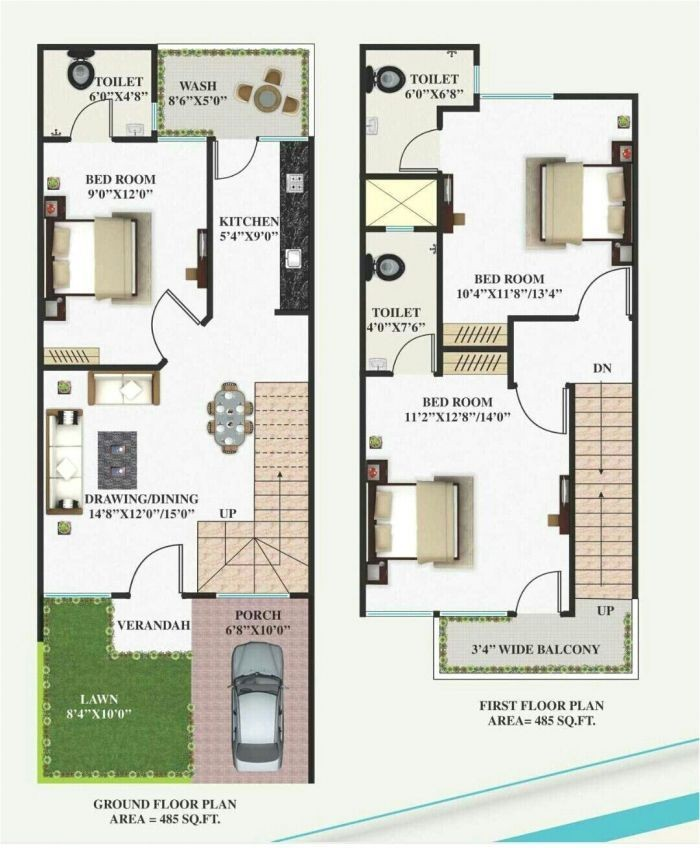door: (140, 290, 206, 362), (118, 545, 186, 602), (518, 393, 572, 446), (510, 573, 567, 616), (581, 265, 631, 313), (69, 88, 116, 137), (401, 129, 443, 172), (218, 143, 252, 169)
room: (51, 370, 263, 588), (372, 382, 557, 593), (51, 143, 207, 365), (474, 110, 621, 313), (219, 146, 310, 361), (370, 54, 475, 168), (46, 49, 156, 139), (370, 231, 437, 377)
wall: (35, 139, 51, 596), (629, 100, 642, 598), (308, 141, 317, 782), (360, 177, 368, 619), (203, 139, 219, 318), (568, 386, 577, 619), (39, 38, 156, 52), (363, 40, 480, 53), (44, 359, 166, 371), (434, 234, 443, 373), (34, 40, 46, 136), (506, 310, 580, 325), (358, 48, 367, 171), (557, 90, 637, 101), (372, 171, 447, 182), (508, 319, 518, 389), (434, 104, 489, 115), (110, 130, 154, 143), (180, 585, 213, 600), (366, 365, 399, 380), (412, 225, 445, 235), (293, 589, 310, 598)
window: (368, 606, 516, 622), (221, 588, 289, 603), (480, 88, 550, 100), (54, 591, 113, 602), (260, 132, 301, 144), (160, 131, 199, 143), (473, 65, 482, 91), (150, 101, 158, 125), (387, 225, 408, 232)
